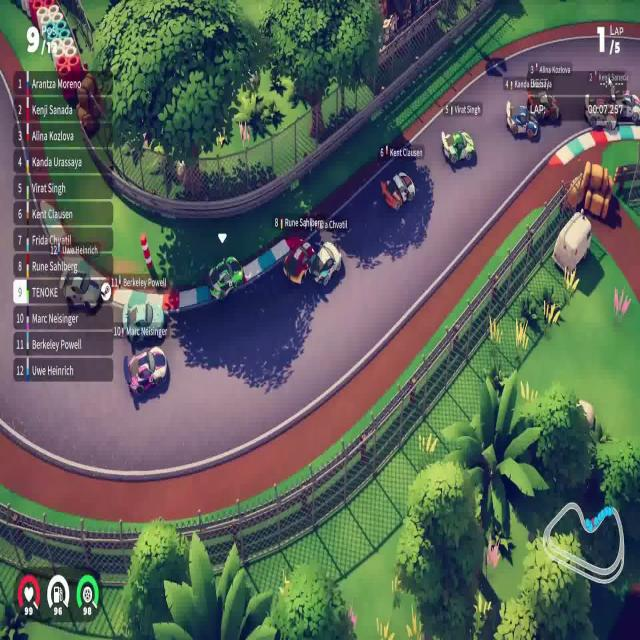car: (123, 297, 168, 346), (126, 345, 168, 397), (207, 254, 244, 302), (380, 169, 418, 214), (308, 239, 342, 287), (282, 240, 315, 286), (505, 99, 539, 140), (440, 128, 475, 167)
